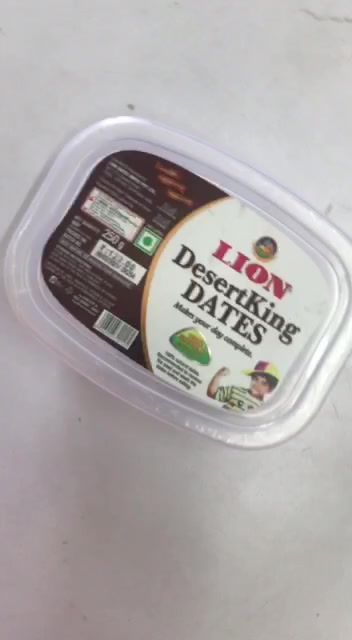Lion dates: (3, 120, 352, 448)
